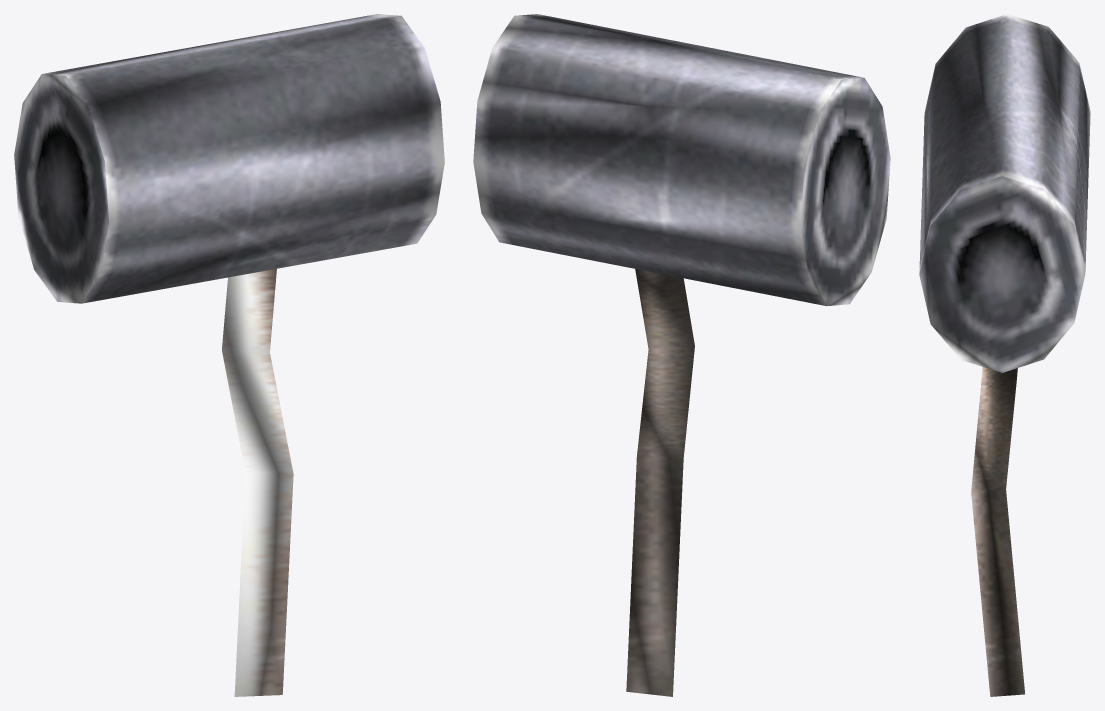
The model's file is Robot01.RightHip1.fbx.
The picture shows the model from 3 angles, left to right: view 1: azimuth 30°, elevation 25°; view 2: azimuth 150°, elevation 25°; view 3: azimuth 270°, elevation 25°; orthographic projection. The views are drawn at different scales.
Parts seen in each view (by area): view 1: Robot01.RightHip1; view 2: Robot01.RightHip1; view 3: Robot01.RightHip1.
Part boxes in pixels (<box>): Robot01.RightHip1: <box>14,14,444,696</box>; Robot01.RightHip1: <box>473,14,890,696</box>; Robot01.RightHip1: <box>919,14,1090,696</box>.
Size of the model in its own units: 23.98 by 44.51 by 11.65.
